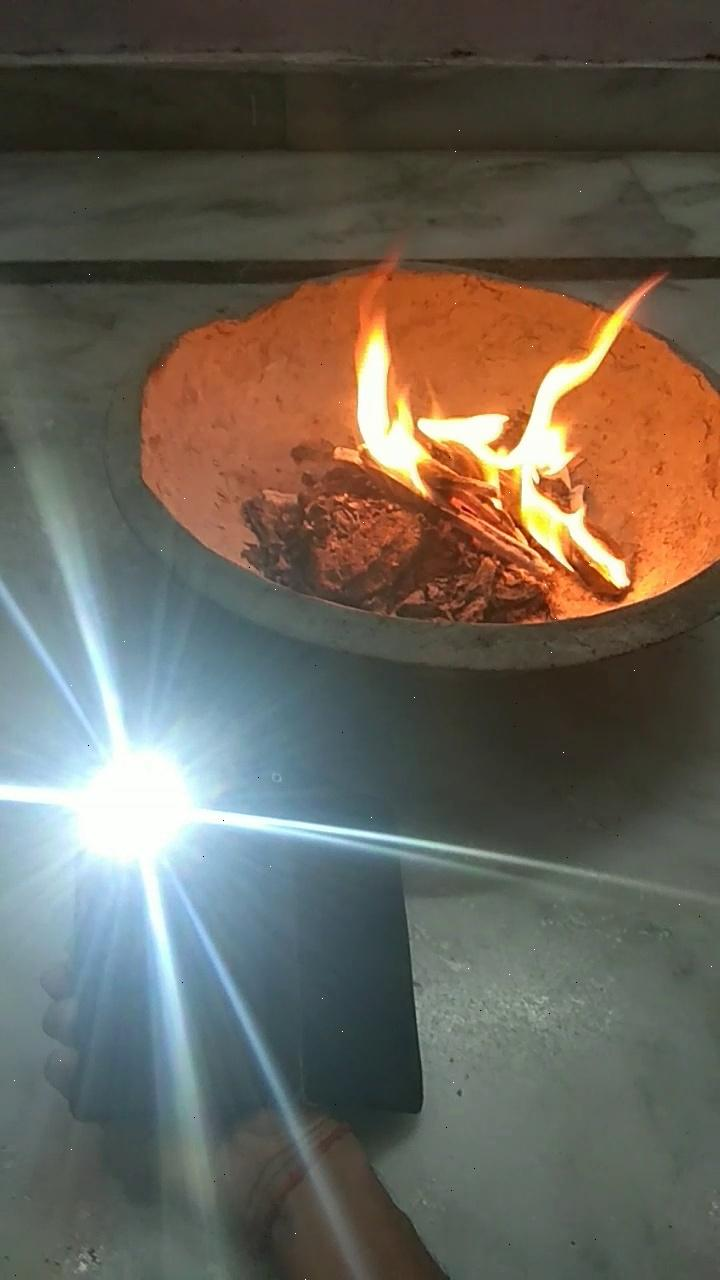fire: (322, 284, 612, 563)
